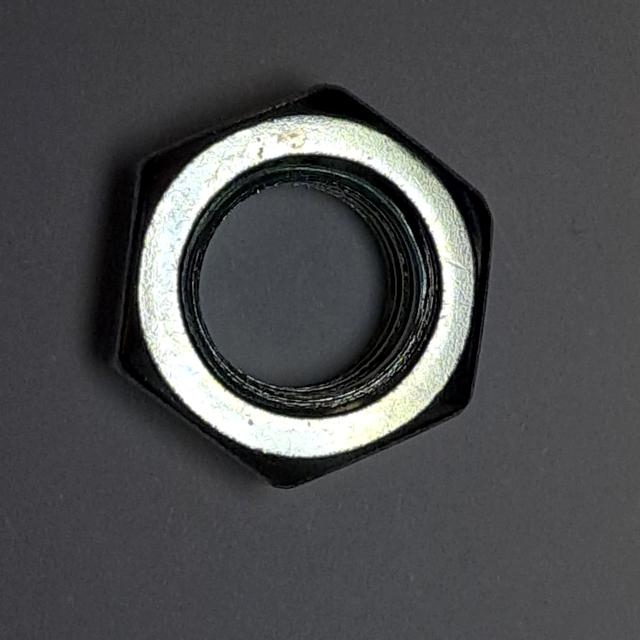Excellent: (92, 68, 510, 500)
